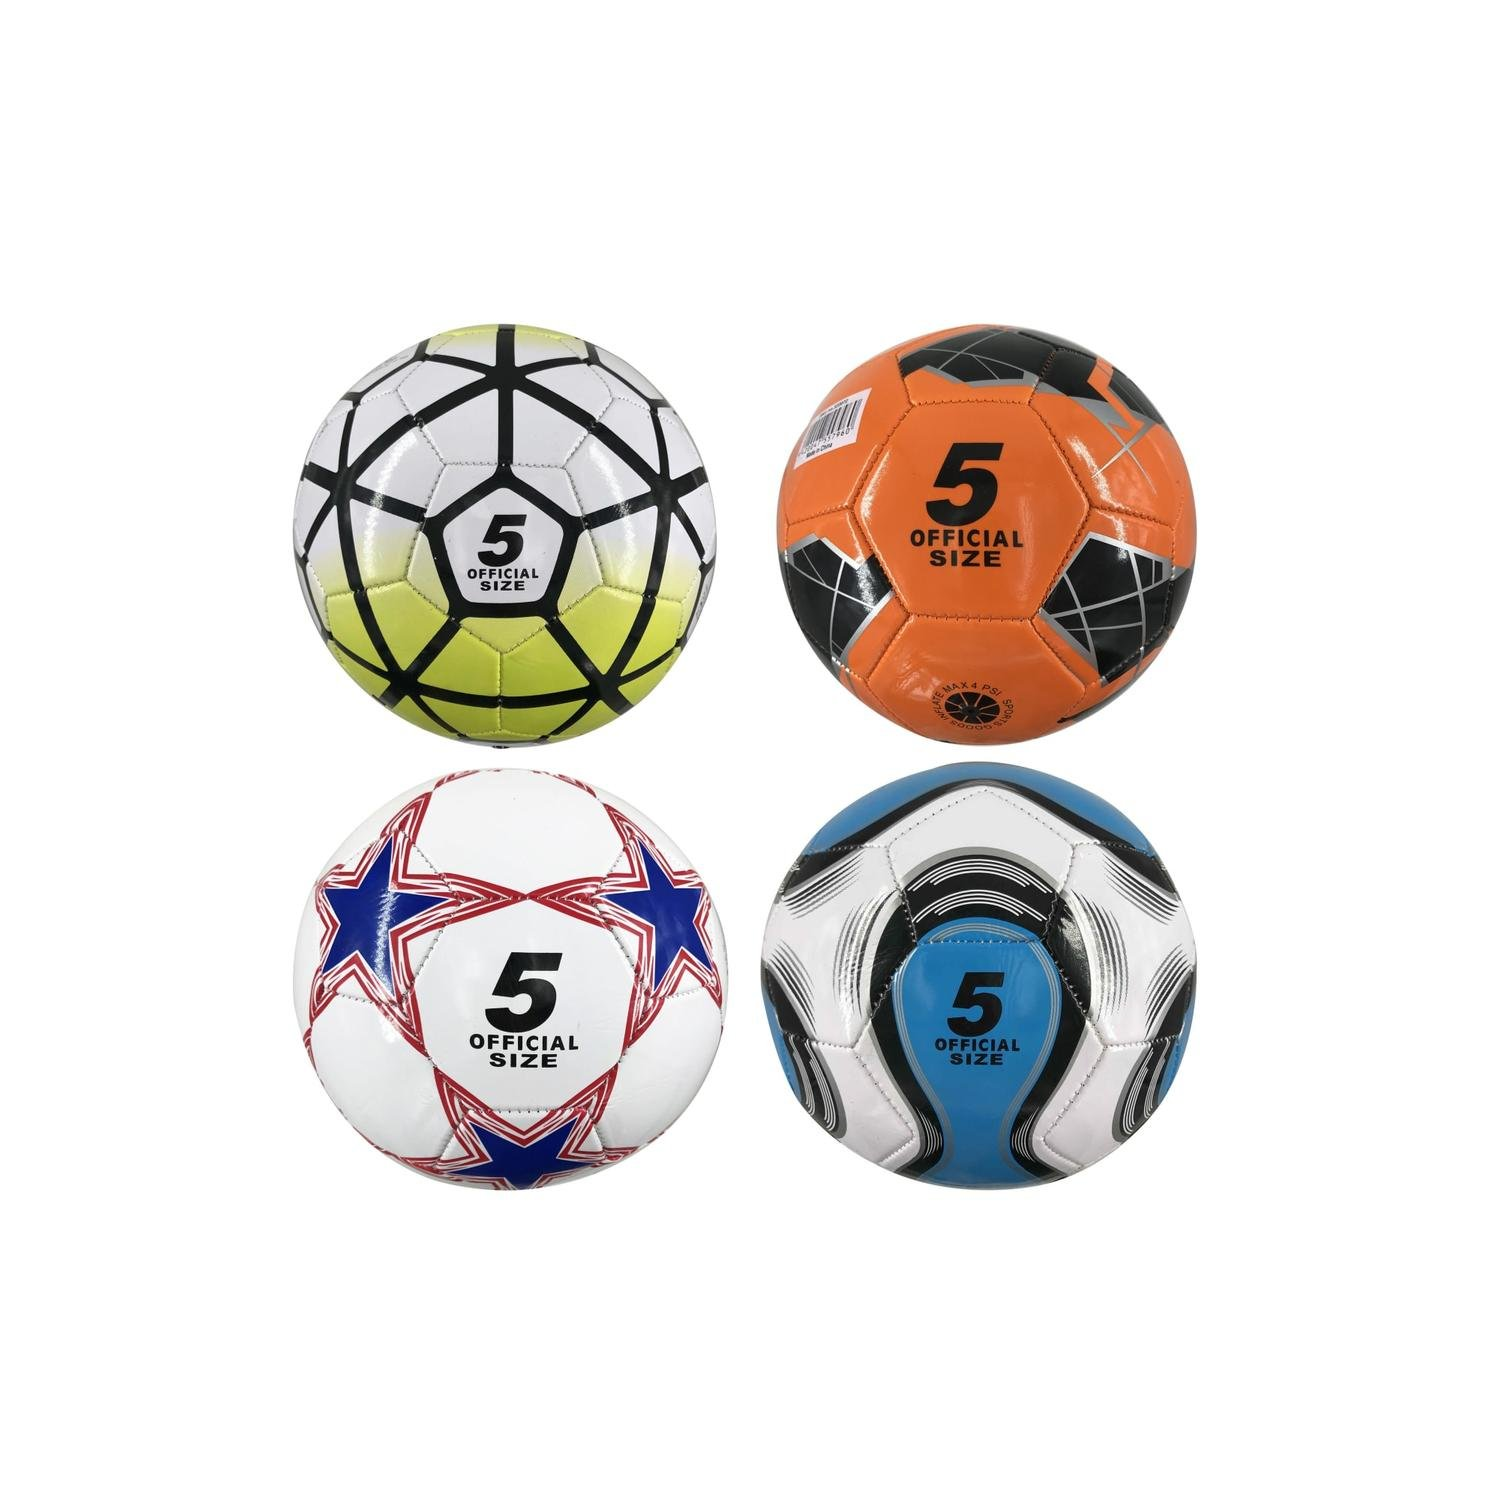ball: (758, 764, 1201, 1190), (291, 768, 729, 1194), (295, 323, 716, 751), (779, 323, 1196, 749)
